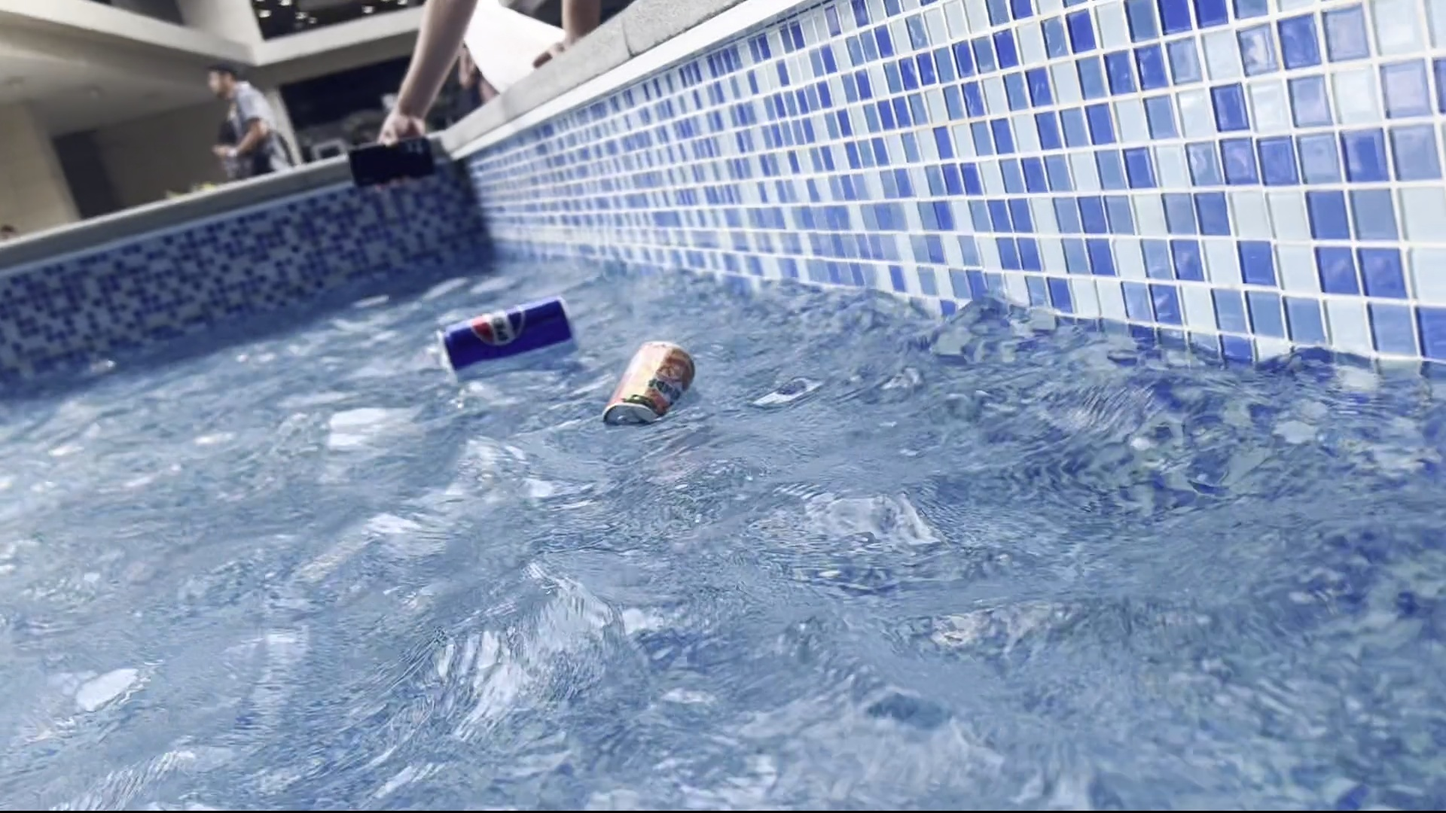debris: (435, 284, 572, 388), (590, 331, 701, 434)
